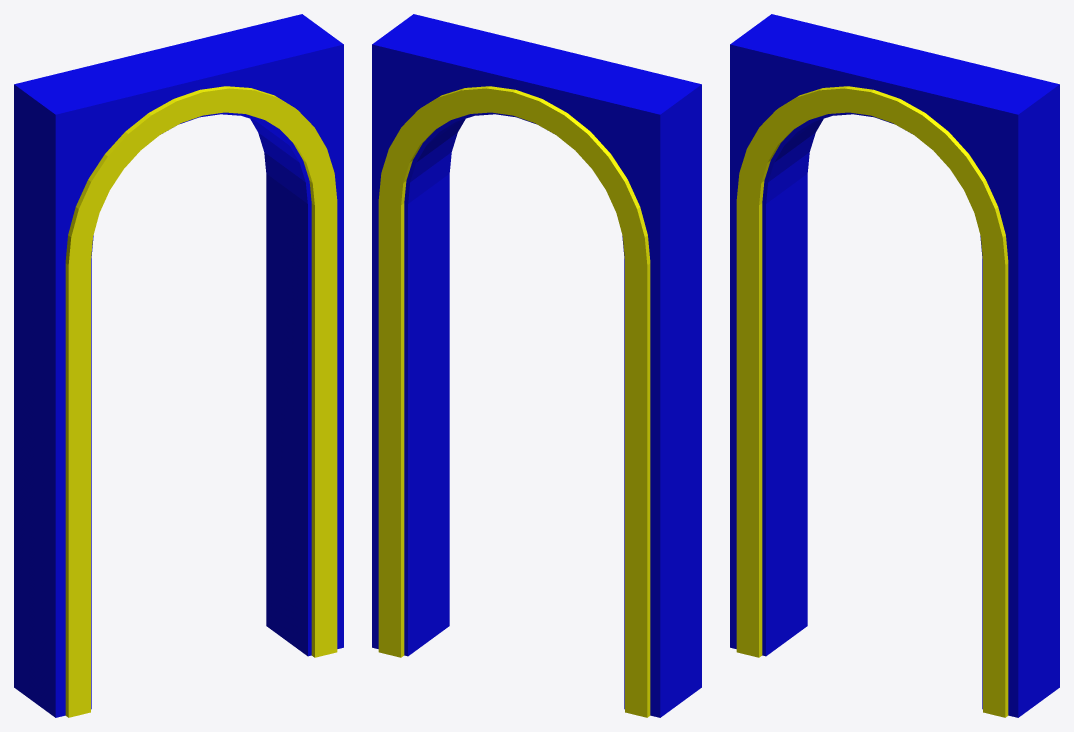
The model's file is ARCH_BIG.fbx.
The picture shows the model from 3 angles, left to right: view 1: azimuth 30°, elevation 25°; view 2: azimuth 150°, elevation 25°; view 3: azimuth 330°, elevation 25°; orthographic projection.
Visible parts, largest first — view 1: ARCH_BIG; view 2: ARCH_BIG; view 3: ARCH_BIG.
Boxes of the visible parts, x1,y1,x2,y2 form: ARCH_BIG: (14, 14, 343, 717); ARCH_BIG: (372, 14, 701, 717); ARCH_BIG: (730, 14, 1059, 717).
Bounding box in the file's own units: 400 × 800 × 115.
